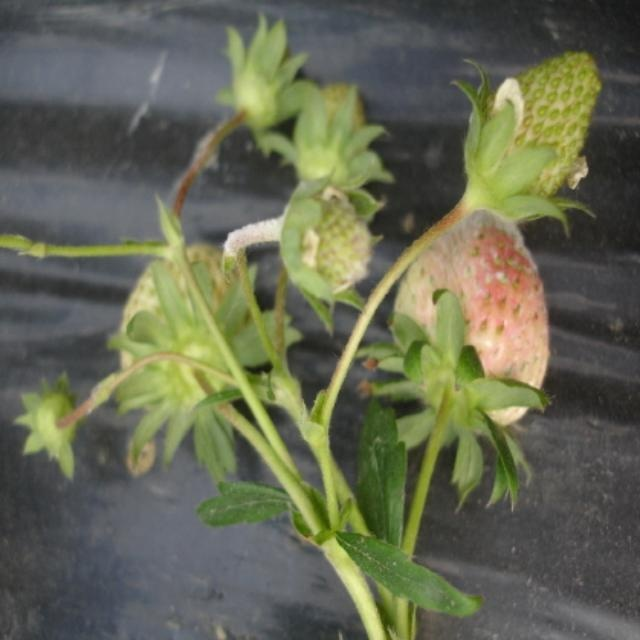Powdery Mildew Fruit: (393, 206, 550, 435), (278, 168, 374, 301)
